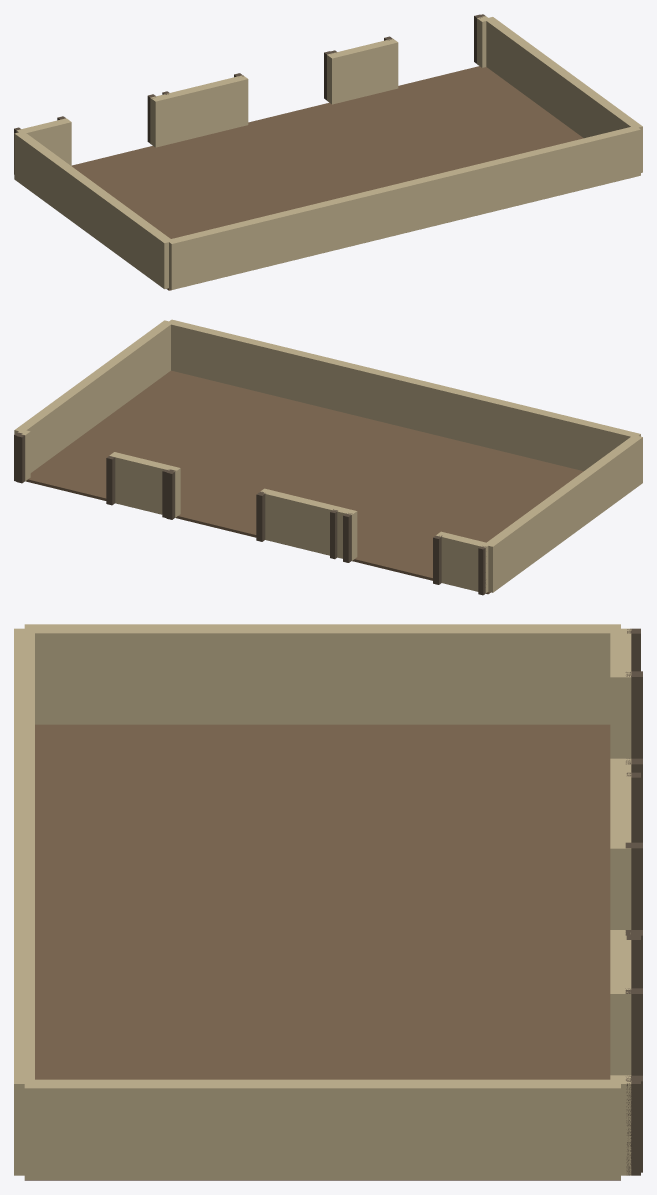
File: WalkTown_RowA.fbx
3 views of the same model, one above another, from view 1: azimuth 30°, elevation 25°; view 2: azimuth 150°, elevation 25°; view 3: azimuth 270°, elevation 25° (orthographic). The views are drawn at different scales.
Parts seen in each view (by area): view 1: OpenBuildings_WalkTown_RowA; view 2: OpenBuildings_WalkTown_RowA; view 3: OpenBuildings_WalkTown_RowA.
Part boxes in pixels (x1,y1,x2,y2): OpenBuildings_WalkTown_RowA: (14,14,642,290); OpenBuildings_WalkTown_RowA: (14,319,642,595); OpenBuildings_WalkTown_RowA: (14,624,642,1180).
Bounding box in the file's own units: 11.42 × 1.11 × 6.54.
